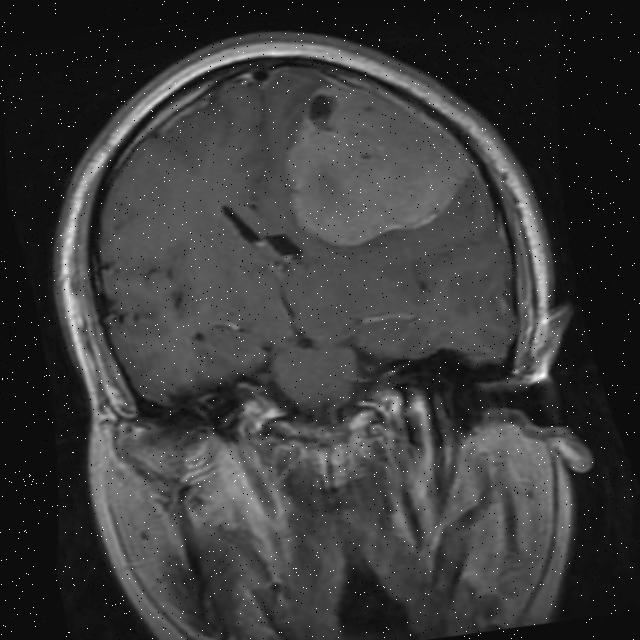Meningioma: (264, 61, 490, 262)
